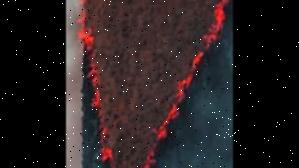fire: (73, 0, 101, 105), (152, 70, 191, 142), (192, 0, 232, 66), (95, 118, 119, 168), (120, 149, 153, 168)
